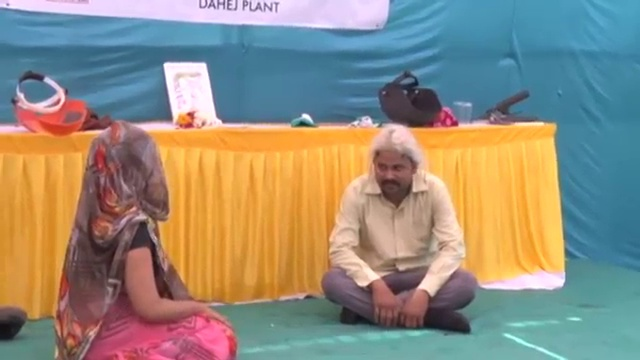helmet_off: (83, 129, 171, 224), (371, 128, 422, 198)
person: (52, 120, 238, 360), (322, 122, 479, 332)
